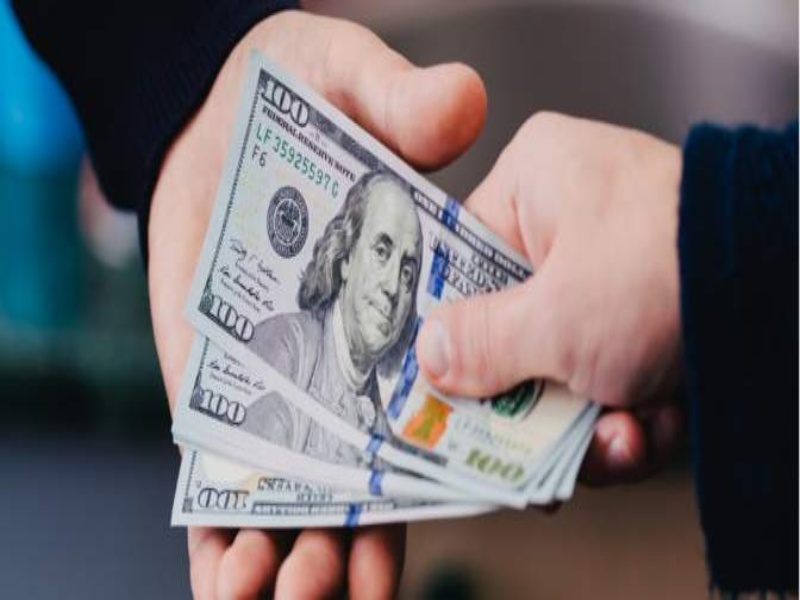cash: (169, 51, 600, 528)
